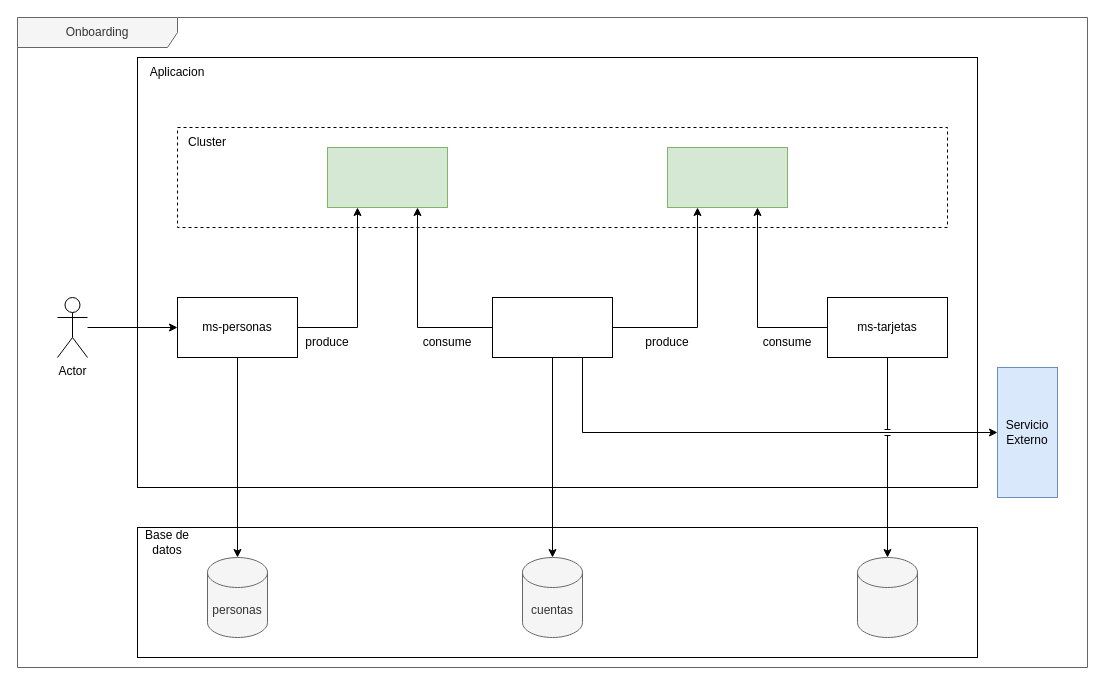
Some shapes in this 1105 by 685 pixel diagram are drawn without their labels. The shapes that lost their labels are listed below. From the top down, each one's centre as x and y in pixels, then its label:
pixel 387 177: topic: nuevo-usuario
pixel 727 177: topic: nueva-cuenta
pixel 552 327: ms-cuentas
pixel 887 597: tarjetas
